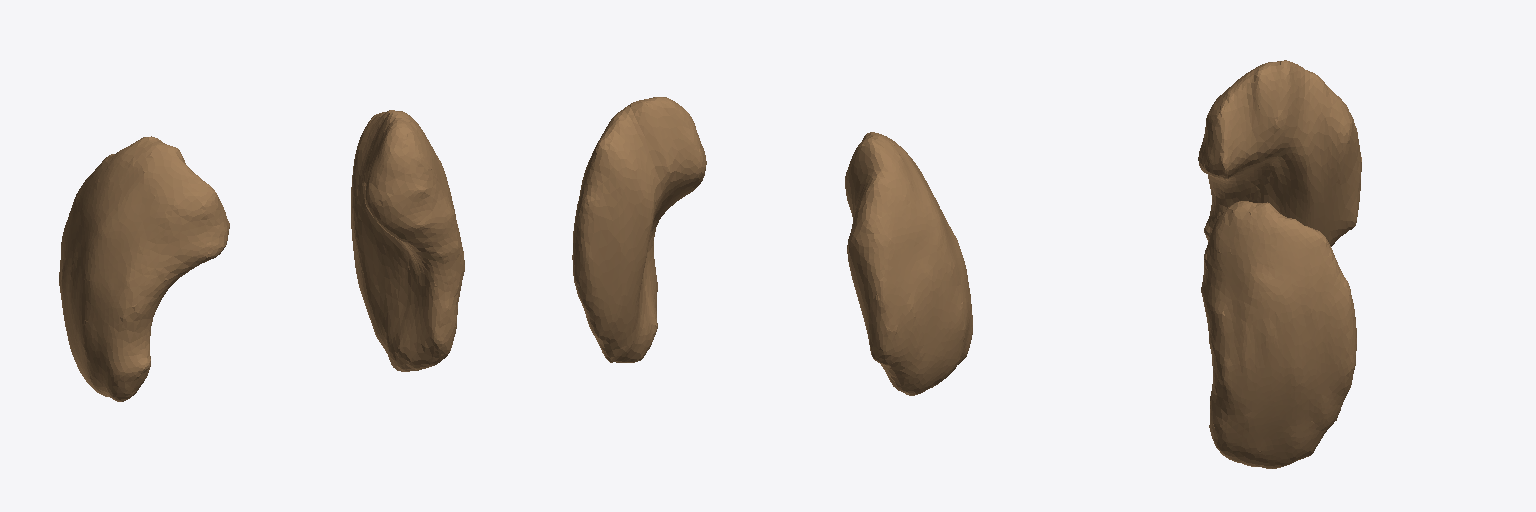
The model's file is Putamen.obj.
3 renders of one model, left to right at view 1: azimuth 30°, elevation 25°; view 2: azimuth 150°, elevation 25°; view 3: azimuth 270°, elevation 25°, orthographic.
Parts seen in each view (by area): view 1: Putamen_putamen_textured; view 2: Putamen_putamen_textured; view 3: Putamen_putamen_textured.
Part boxes in pixels (x1,y1,x2,y2): Putamen_putamen_textured: (59,110,464,401); Putamen_putamen_textured: (572,97,972,395); Putamen_putamen_textured: (1198,60,1361,468).
Size of the model in its own units: 174 by 130 by 66.92.